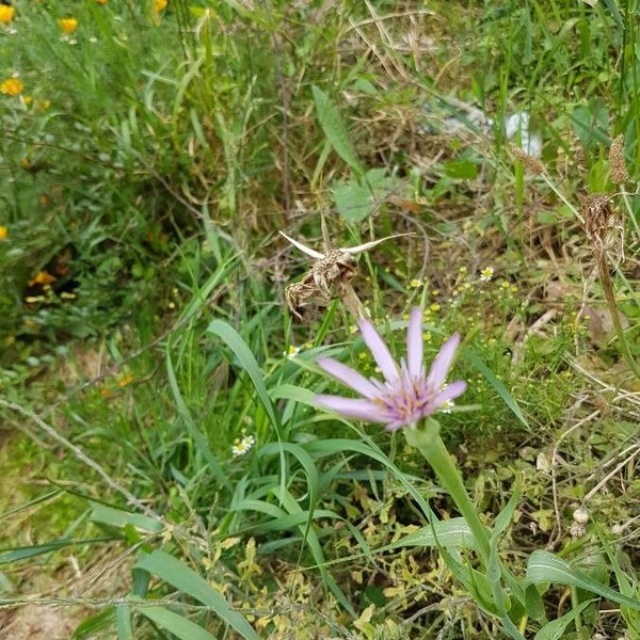obstacle: (145, 234, 548, 613)
